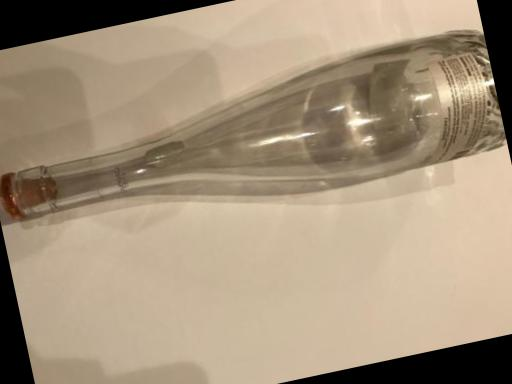glass: (0, 5, 512, 291)
